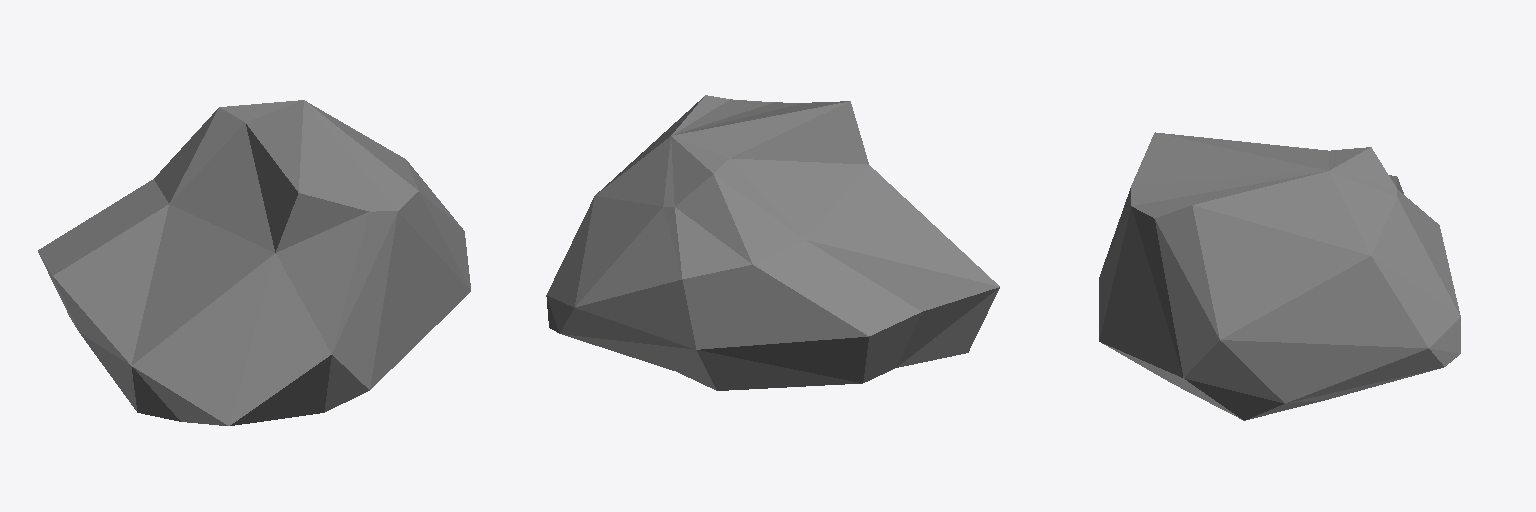
The picture shows the model from 3 angles: view 1: azimuth 30°, elevation 25°; view 2: azimuth 150°, elevation 25°; view 3: azimuth 270°, elevation 25°; orthographic projection.
Parts seen in each view (by area): view 1: pSphere1; view 2: pSphere1; view 3: pSphere1.
Part boxes in pixels (left/top/right/bottom): pSphere1: left=38, top=100, right=470, bottom=425; pSphere1: left=546, top=95, right=999, bottom=390; pSphere1: left=1099, top=132, right=1460, bottom=420.
Size of the model in its own units: 3.37 by 2.17 by 2.96.
1 materials, 1 textured.